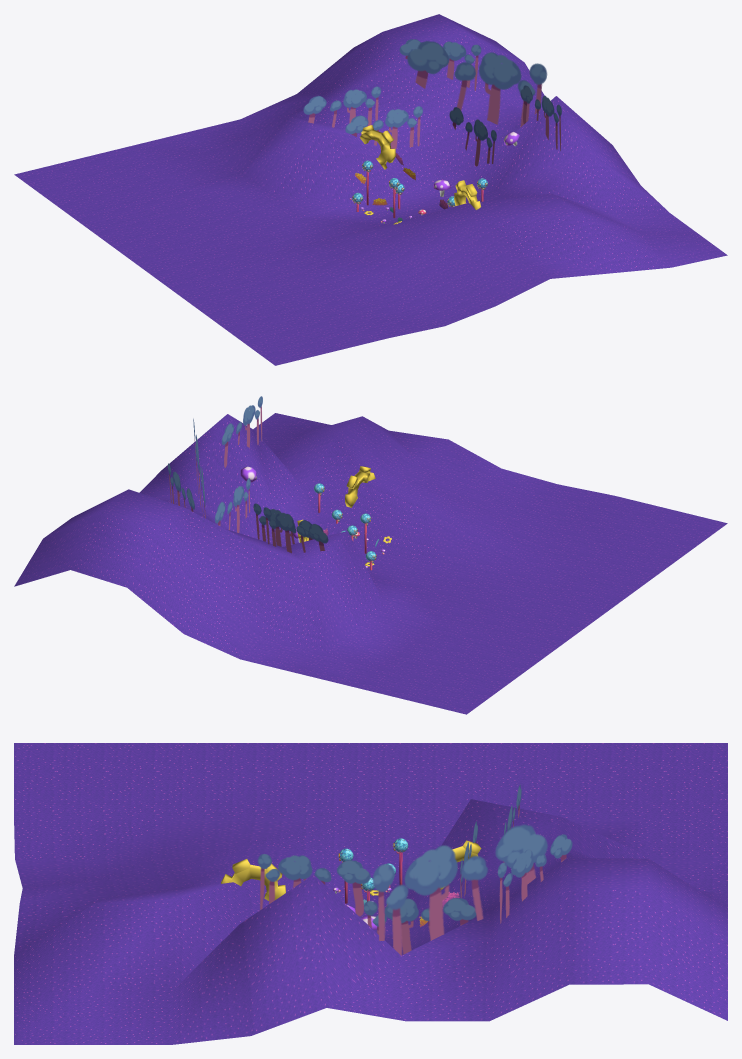
Rendered from AmserBackground.glb.
3 renders of one model, top to bottom at view 1: azimuth 30°, elevation 25°; view 2: azimuth 150°, elevation 25°; view 3: azimuth 270°, elevation 25°, orthographic. The views are drawn at different scales.
Parts seen in each view (by area): view 1: Plane, Plane.004, Plane.006, Plane.005, Plane.002, Plane.003, Plane.001, Circle.003; view 2: Plane, Plane.006, Plane.001, Plane.003, Plane.005, Circle.002; view 3: Plane, Plane.004, Plane.001, Plane.003, Plane.002, Circle.002.
Boxes of the visible parts, x1,y1,x2,y2 form: Plane: (14,14,727,365); Plane.004: (407,41,547,127); Plane.006: (303,86,381,127); Plane.005: (345,106,422,148); Plane.002: (399,39,481,90); Plane.003: (449,107,496,166); Plane.001: (520,85,561,150); Circle.003: (360,125,395,169); Plane: (14,413,727,714); Plane.006: (263,507,328,553); Plane.001: (221,396,262,467); Plane.003: (215,478,250,532); Plane.005: (253,503,314,546); Circle.002: (345,466,375,507); Plane: (14,743,727,1044); Plane.004: (372,824,547,955); Plane.001: (257,854,370,916); Plane.003: (364,897,476,954); Plane.002: (497,834,572,923); Circle.002: (221,859,285,900).
Bounding box in the file's own units: 479 × 154 × 479.
11 materials, 10 textured.
